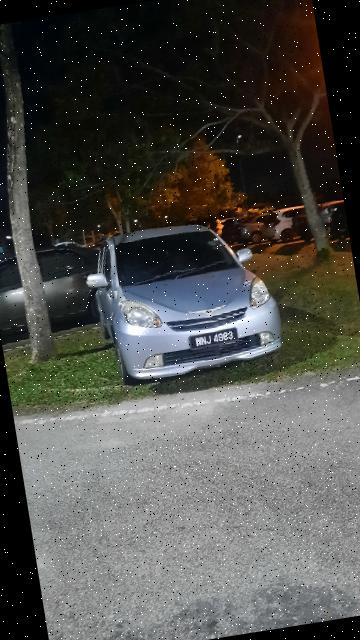License_Plate: (186, 323, 244, 357)
car: (78, 200, 297, 397)
